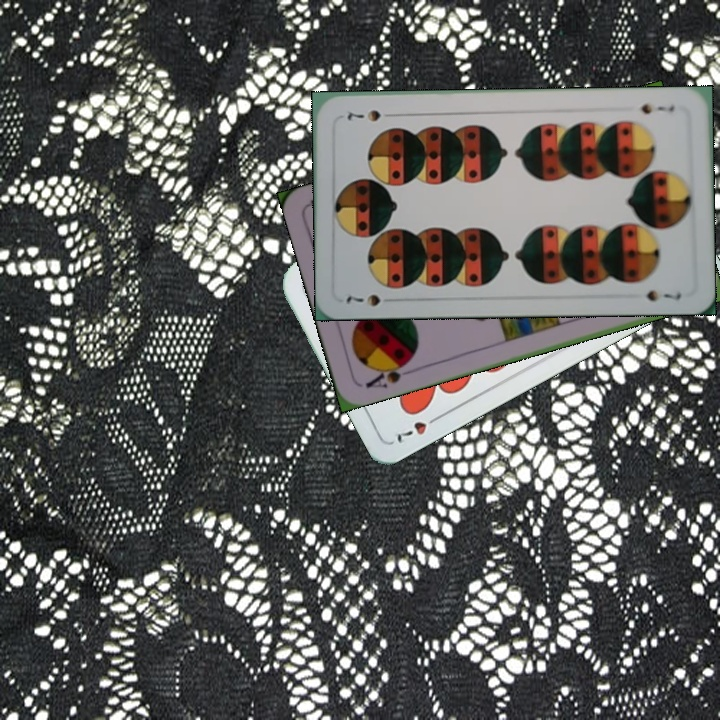H7: (392, 410, 445, 445)
S7: (342, 290, 399, 309), (637, 100, 677, 117)
SA: (361, 355, 417, 391)
